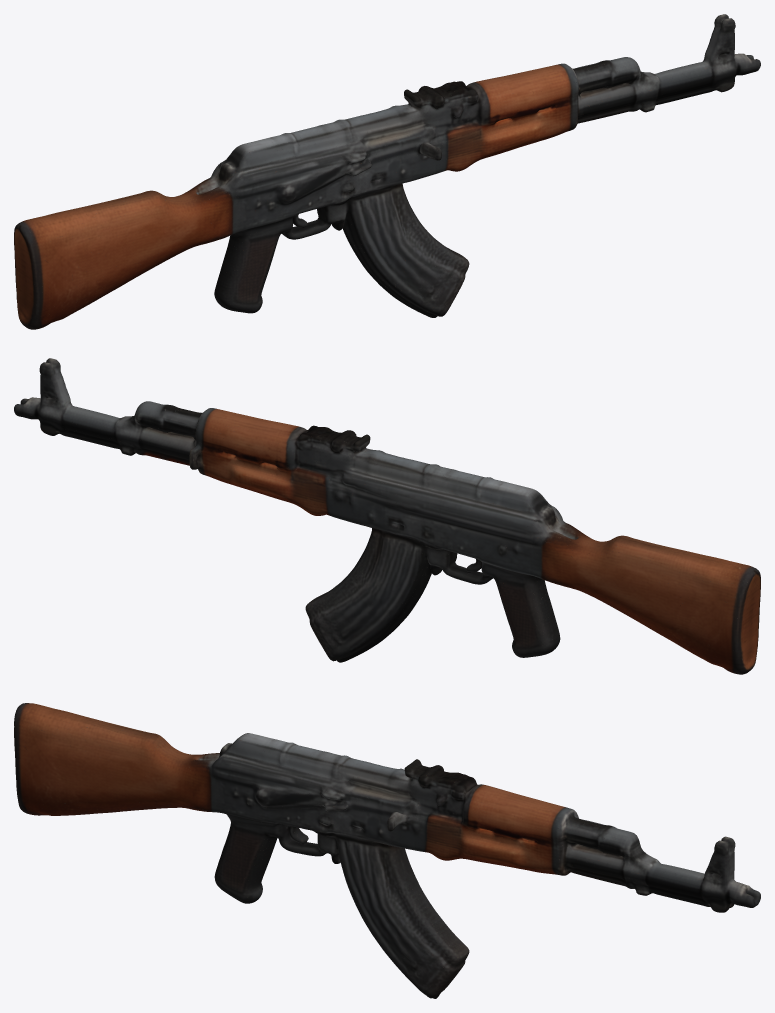
File: Copilot3D-f4c343ac-f472-4604-a6c7-df2c5314e409.glb
3 views of the same model, one above another, from view 1: azimuth 30°, elevation 25°; view 2: azimuth 150°, elevation 25°; view 3: azimuth 330°, elevation 25° (orthographic).
Parts seen in each view (by area): view 1: world; view 2: world; view 3: world.
Part boxes in pixels (bbox=[...]): world: bbox=[14, 14, 760, 329]; world: bbox=[14, 358, 760, 674]; world: bbox=[14, 703, 760, 998].
Bounding box in the file's own units: 1 × 0.2982 × 0.0974.
1 material, 1 textured.
